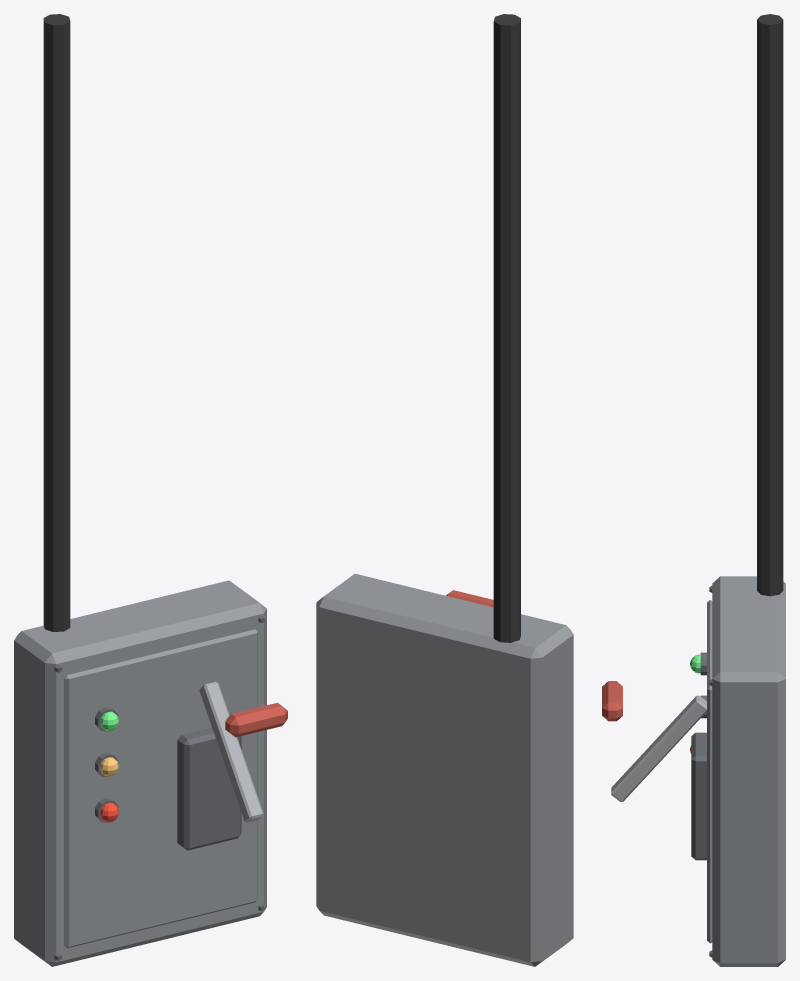
Rendered from Garage_Breaker.glb.
3 renders of one model, left to right at view 1: azimuth 30°, elevation 25°; view 2: azimuth 150°, elevation 25°; view 3: azimuth 270°, elevation 25°, orthographic. The views are drawn at different scales.
Parts seen in each view (by area): view 1: Garage_Breaker; view 2: Garage_Breaker; view 3: Garage_Breaker.
Boxes of the visible parts, x1,y1,x2,y2 form: Garage_Breaker: [14, 14, 287, 966]; Garage_Breaker: [316, 14, 573, 966]; Garage_Breaker: [602, 14, 785, 966].
Bounding box in the file's own units: 0.46 × 1.82 × 0.35.
